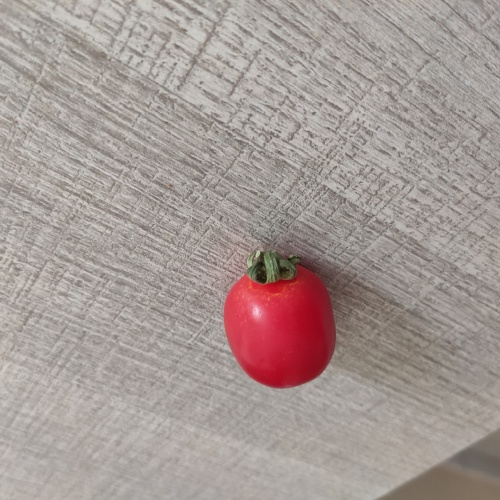pomodoro: (220, 244, 337, 392)
